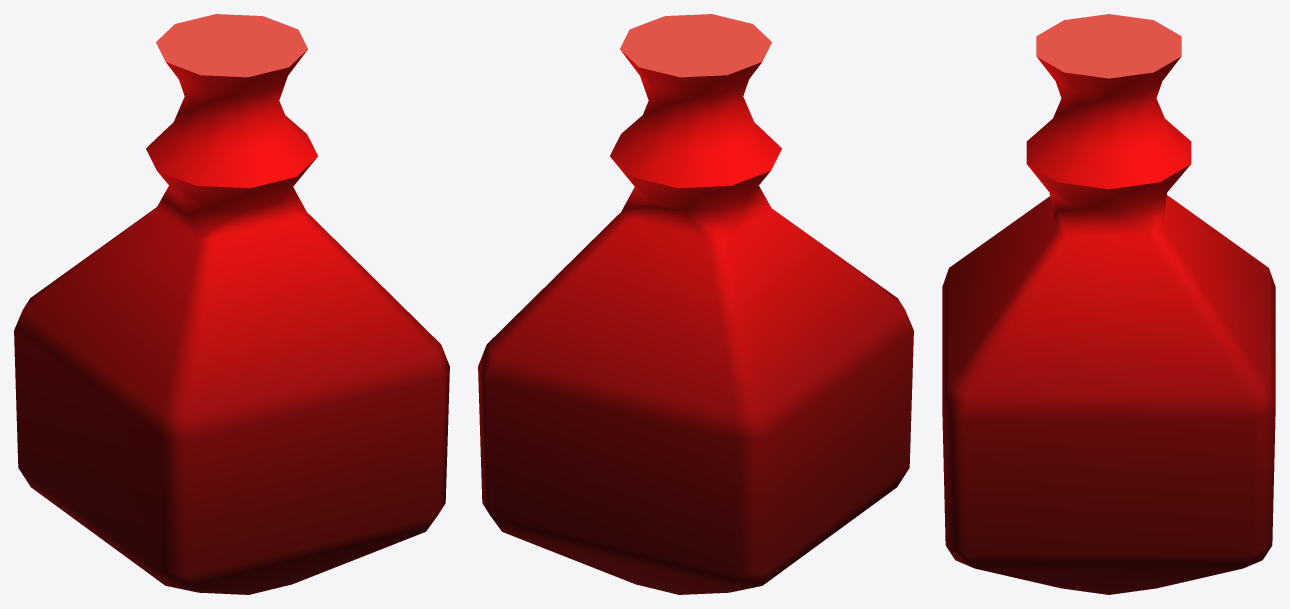
File: Potion_Special_A_Liquid.fbx
3 views of the same model, side by side, from view 1: azimuth 30°, elevation 25°; view 2: azimuth 150°, elevation 25°; view 3: azimuth 270°, elevation 25° (orthographic).
Parts seen in each view (by area): view 1: Potion_Special_A_Liquid; view 2: Potion_Special_A_Liquid; view 3: Potion_Special_A_Liquid.
Boxes of the visible parts, left/top/right/bottom form: Potion_Special_A_Liquid: left=14, top=14, right=449, bottom=594; Potion_Special_A_Liquid: left=478, top=14, right=913, bottom=594; Potion_Special_A_Liquid: left=942, top=14, right=1275, bottom=594.
Bounding box in the file's own units: 42.15 × 71.59 × 42.04.
